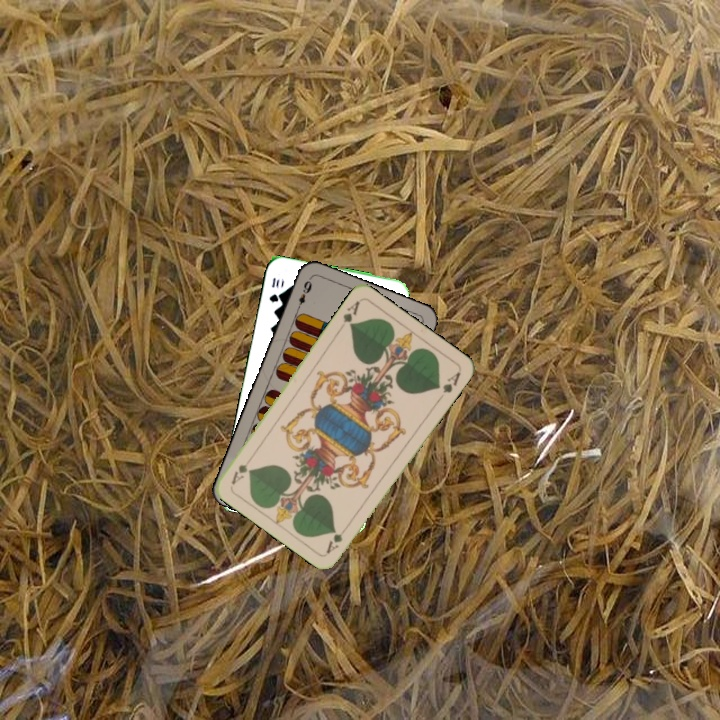E9: (292, 275, 314, 314)
G10: (265, 274, 282, 305)
GA: (322, 521, 352, 556), (339, 297, 362, 330)
